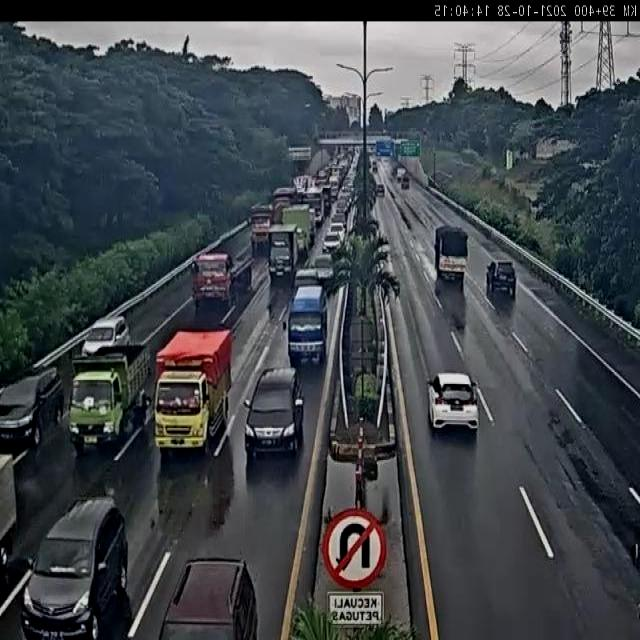Bus: (302, 192, 323, 230)
Car: (22, 497, 129, 637), (0, 363, 65, 452), (244, 366, 305, 459), (426, 370, 478, 432), (486, 260, 516, 298), (313, 252, 335, 286), (323, 225, 344, 253)
Truck: (153, 329, 234, 453), (67, 341, 152, 453), (191, 248, 252, 310), (434, 223, 470, 284), (267, 224, 302, 282), (282, 205, 314, 258), (249, 208, 273, 255)
Van: (287, 282, 328, 365), (82, 313, 133, 357)
